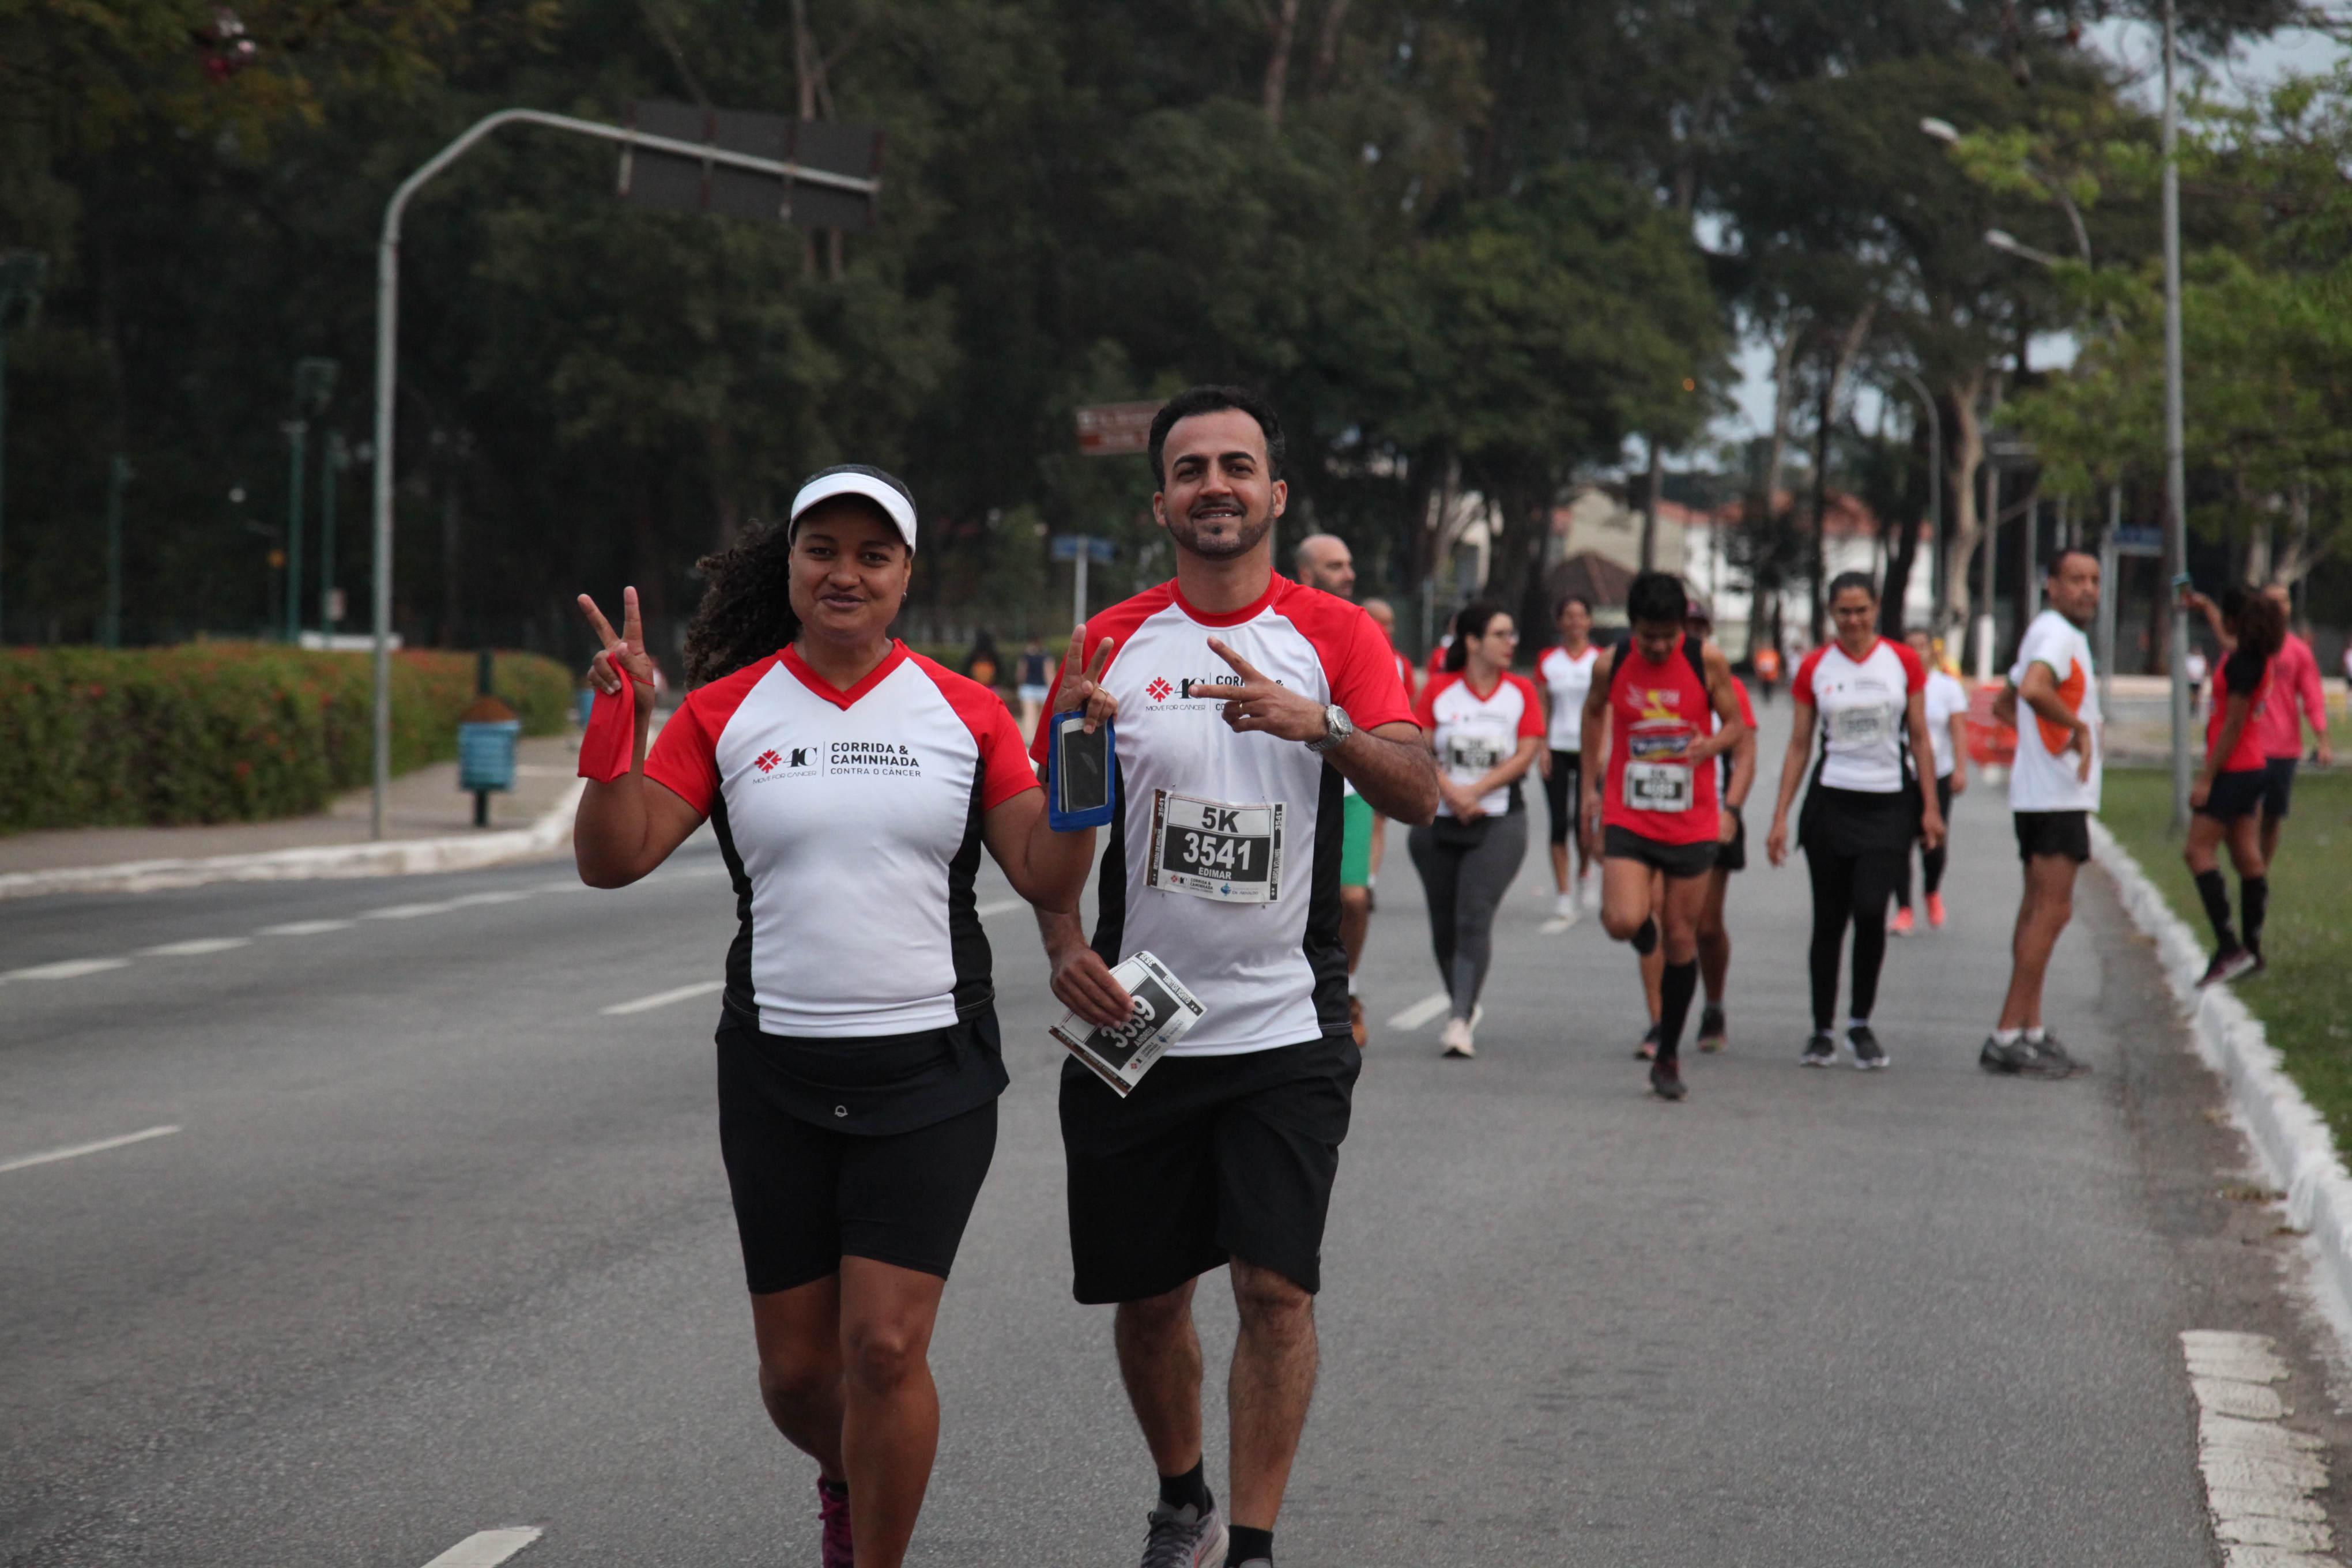bibtag: (1151, 791, 1286, 915), (1605, 740, 1701, 812)
